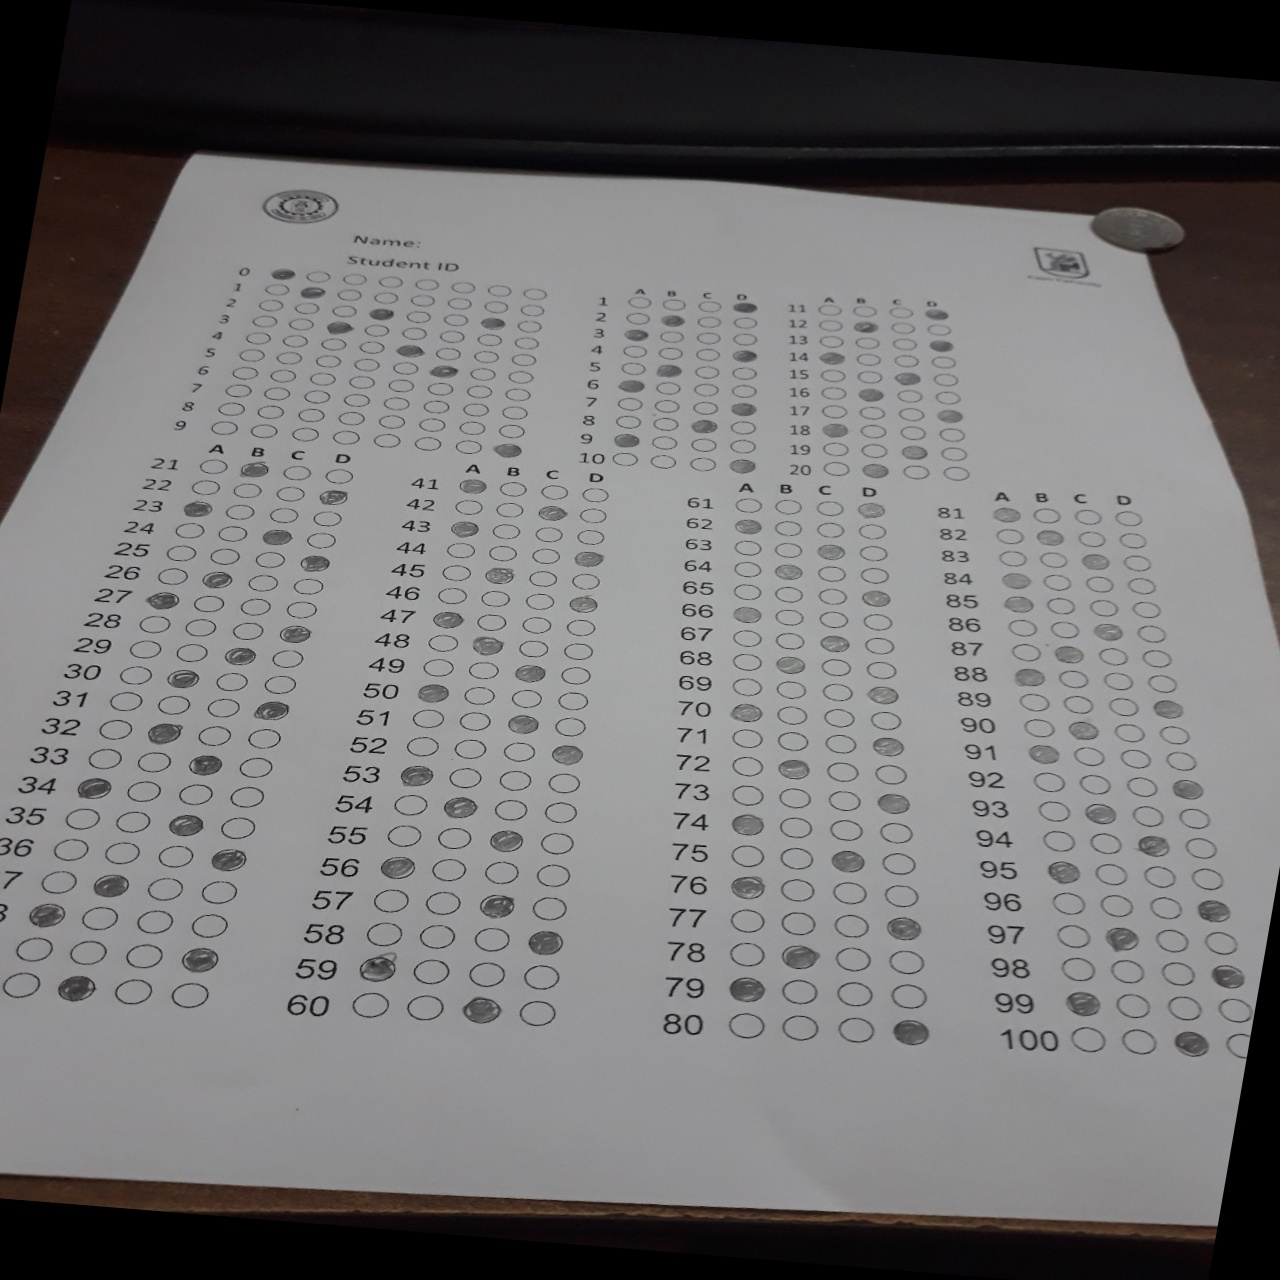not-c: (154, 840, 197, 870), (66, 938, 108, 967), (199, 878, 241, 907), (102, 837, 144, 866), (226, 783, 268, 812), (233, 754, 275, 783), (409, 958, 452, 986), (467, 959, 510, 987), (110, 978, 154, 1006), (143, 873, 186, 901), (38, 869, 81, 897), (110, 808, 154, 836), (134, 747, 177, 775), (835, 1016, 877, 1044), (777, 908, 819, 937), (776, 876, 818, 904), (404, 993, 447, 1021), (472, 924, 515, 952), (132, 906, 175, 934), (216, 813, 258, 842), (62, 803, 104, 831), (176, 779, 218, 808), (84, 745, 127, 774), (878, 849, 921, 876), (416, 922, 459, 949), (122, 941, 165, 968), (888, 981, 930, 1009), (513, 999, 554, 1027), (1118, 1028, 1160, 1055), (781, 1014, 823, 1041), (726, 1012, 768, 1039), (726, 941, 768, 968), (831, 879, 873, 906), (519, 964, 561, 990), (169, 981, 211, 1008), (11, 937, 53, 964), (188, 913, 230, 940), (121, 775, 163, 802), (726, 842, 769, 867), (212, 667, 256, 693), (779, 978, 821, 1005), (835, 979, 876, 1006), (884, 947, 925, 974), (833, 945, 874, 972), (729, 907, 770, 934), (830, 912, 871, 939), (881, 881, 922, 908), (365, 920, 406, 947), (350, 990, 392, 1017), (79, 904, 120, 931), (50, 835, 91, 862), (774, 815, 816, 840), (422, 891, 464, 917), (369, 887, 411, 913), (1203, 930, 1242, 956), (482, 858, 522, 885), (535, 860, 574, 887), (1039, 828, 1080, 853), (1069, 1027, 1110, 1053), (877, 819, 918, 845), (772, 782, 813, 808), (530, 896, 571, 921), (154, 693, 195, 719), (107, 688, 148, 714), (777, 845, 819, 870), (728, 782, 770, 806), (193, 723, 236, 748), (113, 663, 155, 688), (267, 646, 309, 670), (171, 640, 213, 665), (1182, 835, 1221, 860), (1141, 863, 1180, 888), (1089, 862, 1130, 886), (825, 818, 866, 843), (824, 789, 865, 813), (95, 716, 136, 741), (244, 726, 285, 750), (200, 694, 241, 719), (257, 669, 298, 694), (1189, 867, 1227, 893), (1048, 890, 1087, 915), (1153, 928, 1192, 954), (1160, 961, 1199, 987), (864, 658, 903, 683), (429, 856, 468, 881), (1085, 831, 1125, 856), (1146, 896, 1186, 920), (1098, 894, 1138, 919), (1051, 924, 1091, 948), (1109, 959, 1149, 983), (1112, 993, 1152, 1017), (1214, 998, 1254, 1022), (824, 757, 862, 783), (1165, 995, 1204, 1020), (455, 709, 493, 734), (495, 769, 533, 794), (537, 831, 576, 856), (821, 704, 857, 730), (1060, 956, 1099, 980), (447, 765, 486, 789), (772, 701, 810, 726), (728, 649, 765, 674), (858, 611, 896, 635), (404, 734, 442, 758), (775, 583, 813, 606), (813, 585, 852, 608), (450, 737, 489, 761), (540, 799, 579, 823), (386, 824, 424, 847), (127, 636, 165, 660), (155, 564, 193, 587), (302, 529, 341, 552), (728, 726, 764, 750), (774, 727, 810, 751), (821, 678, 857, 702), (770, 629, 806, 654), (872, 763, 910, 787), (728, 753, 765, 776), (867, 708, 905, 731), (774, 678, 811, 701), (817, 654, 855, 678), (811, 606, 849, 629), (770, 605, 808, 628), (499, 740, 537, 763), (490, 797, 527, 821), (241, 571, 279, 594), (204, 544, 241, 567), (164, 538, 202, 561), (731, 625, 767, 649), (434, 828, 472, 850), (135, 612, 173, 634), (188, 592, 226, 614), (236, 594, 274, 617), (251, 549, 290, 571), (822, 730, 858, 754), (729, 675, 765, 699), (860, 634, 897, 658), (1175, 806, 1212, 829), (731, 580, 769, 602), (410, 709, 448, 731), (547, 771, 585, 794), (390, 794, 428, 816), (229, 619, 266, 641), (290, 574, 327, 597), (281, 597, 319, 619), (170, 518, 207, 540), (211, 524, 248, 546), (308, 508, 346, 530), (320, 464, 358, 486), (478, 586, 513, 610), (522, 588, 558, 611), (558, 639, 594, 661), (1129, 806, 1166, 828), (733, 536, 768, 558), (855, 542, 890, 564), (427, 631, 462, 653), (515, 638, 550, 660), (558, 663, 593, 686), (467, 658, 502, 680), (462, 685, 497, 707), (508, 686, 543, 708), (552, 715, 587, 737), (1030, 771, 1067, 792), (561, 615, 598, 636), (556, 690, 592, 712), (1223, 1032, 1250, 1060), (858, 564, 892, 586), (520, 613, 554, 635), (474, 613, 508, 635), (181, 617, 218, 636), (1037, 799, 1073, 821), (811, 520, 846, 542), (813, 497, 849, 518), (1121, 747, 1155, 768), (813, 561, 847, 583), (733, 558, 767, 579), (769, 539, 803, 560), (855, 520, 888, 542), (770, 517, 804, 538), (731, 493, 765, 515), (772, 495, 806, 516), (423, 656, 457, 678), (265, 505, 302, 524), (229, 481, 266, 499), (271, 483, 308, 502), (275, 463, 313, 482), (196, 457, 233, 476), (1023, 719, 1058, 738), (497, 478, 532, 498), (526, 568, 561, 588), (441, 561, 476, 581), (1162, 751, 1194, 772), (576, 506, 612, 525), (568, 571, 605, 590), (188, 476, 224, 495), (1073, 745, 1107, 765), (1126, 776, 1160, 796), (1080, 774, 1114, 794), (537, 481, 571, 501), (573, 526, 607, 546), (533, 523, 567, 543), (489, 520, 523, 540), (1046, 595, 1077, 617), (527, 546, 563, 565), (434, 585, 469, 604), (222, 503, 259, 520), (1076, 529, 1109, 549), (1088, 597, 1121, 617), (1096, 645, 1129, 665), (1017, 692, 1050, 712), (618, 358, 651, 377), (444, 540, 481, 558), (1112, 723, 1146, 742), (492, 499, 526, 518), (240, 328, 274, 347), (246, 311, 280, 329), (1112, 508, 1144, 527), (1130, 600, 1162, 620), (1073, 505, 1104, 525), (1010, 642, 1042, 662), (1103, 672, 1135, 692), (454, 498, 489, 516), (484, 544, 519, 561), (1116, 531, 1149, 550), (1121, 553, 1153, 572), (1125, 577, 1158, 595), (1135, 626, 1167, 645), (1141, 649, 1173, 668), (1157, 726, 1190, 744), (1039, 573, 1071, 592), (1108, 697, 1141, 716), (338, 270, 370, 288), (388, 358, 421, 376), (576, 485, 610, 503), (207, 418, 241, 436), (216, 400, 250, 417), (223, 381, 257, 399), (227, 363, 261, 381), (236, 346, 270, 363), (290, 425, 324, 443), (406, 291, 440, 308), (726, 363, 760, 381), (304, 268, 340, 285), (1148, 674, 1179, 693), (993, 526, 1024, 545), (998, 549, 1029, 567), (1039, 550, 1070, 568), (1085, 574, 1117, 593), (1008, 618, 1040, 636), (690, 379, 722, 397), (1029, 505, 1062, 523), (1049, 621, 1082, 639), (1056, 669, 1089, 687), (290, 300, 325, 316), (279, 331, 314, 347), (274, 350, 309, 367), (259, 386, 294, 402), (312, 352, 345, 369), (355, 339, 388, 356), (345, 374, 377, 392), (341, 390, 374, 408), (370, 433, 403, 450), (374, 414, 407, 431), (400, 324, 433, 341), (256, 297, 290, 313), (258, 279, 292, 295), (267, 368, 301, 384), (358, 321, 392, 338), (1061, 695, 1092, 713), (300, 384, 332, 402), (316, 335, 348, 353), (336, 285, 368, 302), (687, 365, 719, 382), (614, 413, 644, 431), (727, 418, 756, 437), (617, 395, 646, 414), (821, 459, 850, 478), (903, 459, 932, 478), (858, 422, 887, 441), (858, 401, 887, 420), (932, 387, 961, 406), (297, 407, 329, 423), (382, 395, 415, 411), (408, 275, 441, 292), (448, 280, 481, 297), (282, 316, 318, 332), (851, 333, 881, 350), (658, 380, 686, 399), (894, 387, 922, 406), (893, 350, 921, 369), (370, 290, 402, 306), (430, 346, 462, 362), (730, 383, 762, 400), (816, 319, 847, 335), (819, 332, 851, 348), (886, 306, 918, 322), (887, 321, 919, 338), (927, 321, 959, 338), (256, 404, 290, 420), (252, 424, 286, 440), (411, 435, 441, 452), (461, 401, 490, 418), (484, 279, 513, 297), (522, 282, 551, 300), (481, 298, 510, 315), (503, 386, 532, 403), (611, 448, 640, 465), (689, 456, 719, 474), (689, 437, 719, 455), (653, 415, 682, 433), (652, 396, 681, 414), (940, 464, 969, 482), (940, 443, 969, 461), (859, 442, 888, 459), (822, 365, 851, 382), (856, 368, 885, 386), (932, 370, 961, 388), (856, 350, 885, 368), (305, 370, 338, 386), (328, 302, 361, 318), (350, 358, 383, 373), (331, 430, 363, 445), (386, 376, 418, 392), (403, 308, 436, 324), (422, 399, 452, 415), (847, 302, 878, 319), (927, 355, 958, 372), (469, 365, 497, 382), (649, 431, 678, 449), (692, 399, 720, 416), (625, 309, 653, 327), (938, 425, 966, 443), (821, 402, 849, 420), (898, 406, 926, 423), (821, 382, 849, 400), (442, 313, 474, 328), (437, 327, 469, 342), (815, 302, 846, 318), (515, 318, 544, 334), (510, 352, 539, 368), (506, 369, 536, 386), (501, 403, 530, 420), (730, 313, 760, 329), (694, 313, 723, 329), (625, 293, 654, 309), (893, 338, 922, 354), (900, 424, 927, 442), (335, 410, 366, 425), (425, 381, 456, 396), (452, 440, 481, 456), (459, 418, 488, 435), (464, 382, 492, 399), (477, 331, 505, 347), (520, 302, 549, 319), (497, 423, 525, 440), (619, 343, 652, 358), (695, 346, 723, 362), (695, 297, 723, 313), (823, 441, 851, 457), (512, 336, 542, 352), (729, 437, 758, 452), (445, 297, 477, 311), (474, 348, 501, 365), (651, 452, 678, 469), (417, 417, 445, 433), (655, 345, 686, 359), (731, 329, 760, 345), (694, 328, 722, 343), (658, 329, 686, 345), (659, 297, 687, 312), (377, 274, 406, 288)
taken-c: (353, 952, 400, 989), (459, 992, 505, 1029), (474, 888, 520, 925), (54, 972, 100, 1007), (1060, 988, 1107, 1022), (888, 1017, 934, 1051), (1097, 922, 1143, 956), (375, 851, 418, 886), (177, 944, 222, 978), (485, 825, 527, 860), (1041, 856, 1085, 888), (522, 927, 566, 960), (23, 900, 69, 932), (1169, 1030, 1214, 1061), (1023, 740, 1067, 771), (726, 874, 769, 904), (777, 942, 821, 972), (183, 750, 226, 779), (440, 794, 481, 824), (396, 761, 437, 791), (547, 742, 588, 772), (881, 914, 924, 944), (143, 719, 185, 748), (72, 774, 114, 803), (206, 845, 248, 874), (89, 872, 131, 901), (726, 975, 767, 1005), (502, 712, 543, 741), (1008, 663, 1050, 692), (165, 812, 207, 840), (1135, 832, 1175, 862), (1081, 799, 1121, 828), (1194, 898, 1233, 926), (1208, 962, 1247, 990), (469, 633, 508, 661), (430, 607, 469, 635), (564, 592, 602, 620), (870, 733, 910, 760), (728, 811, 768, 838), (413, 680, 452, 707), (251, 697, 291, 724), (512, 661, 551, 688), (164, 665, 203, 692), (726, 701, 765, 727), (774, 757, 813, 783), (874, 792, 914, 818), (828, 849, 866, 874), (445, 516, 484, 542), (999, 592, 1039, 617), (996, 568, 1036, 593), (481, 563, 518, 588), (815, 632, 853, 656), (1150, 697, 1189, 722), (568, 547, 607, 572), (533, 501, 570, 526), (144, 590, 182, 614), (222, 644, 259, 668), (237, 458, 275, 482), (179, 497, 218, 520), (258, 526, 297, 550), (275, 622, 314, 646), (1065, 719, 1102, 743), (772, 654, 810, 678), (1169, 777, 1206, 801), (314, 486, 352, 510), (294, 552, 332, 576), (198, 568, 236, 592), (862, 685, 900, 707), (489, 440, 525, 463), (988, 504, 1024, 527), (1051, 642, 1088, 666), (456, 475, 490, 499), (1032, 526, 1068, 549), (1090, 621, 1126, 644), (1078, 552, 1114, 574), (621, 324, 655, 346), (687, 416, 721, 438), (855, 384, 888, 407), (610, 430, 644, 451), (614, 377, 648, 399), (652, 361, 686, 382), (730, 297, 764, 318), (726, 346, 760, 367), (728, 400, 762, 421), (818, 420, 852, 441), (926, 336, 960, 358), (731, 516, 765, 537), (813, 542, 847, 563), (771, 561, 805, 583), (860, 588, 894, 610), (730, 604, 764, 625), (658, 309, 690, 331), (726, 456, 758, 477), (859, 461, 892, 482), (898, 443, 931, 464), (817, 349, 850, 370), (851, 318, 884, 339), (891, 369, 924, 390), (855, 501, 887, 522), (932, 406, 966, 425), (322, 319, 358, 338), (425, 362, 461, 381), (265, 265, 299, 284), (295, 284, 329, 302), (393, 342, 427, 361), (363, 306, 397, 324), (475, 314, 509, 332), (921, 305, 952, 324)
